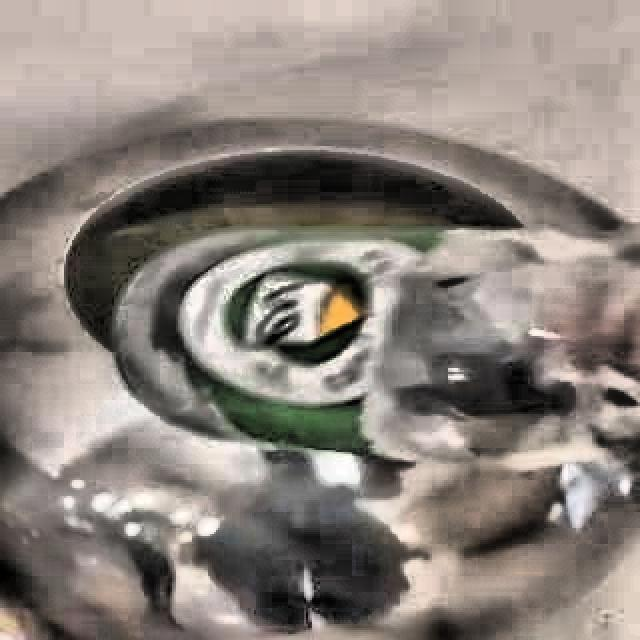glass: (109, 228, 640, 468)
